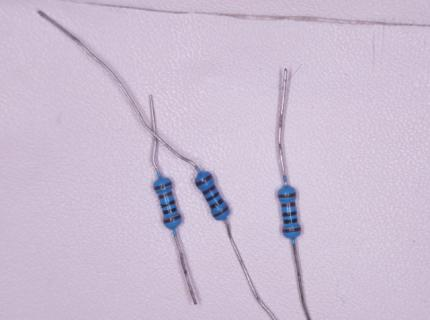Black band: (210, 198, 224, 209), (206, 191, 220, 202), (163, 206, 178, 215), (161, 200, 176, 208), (284, 217, 298, 224), (282, 211, 297, 216)
Brown band: (196, 174, 213, 187), (212, 205, 229, 217), (163, 215, 182, 224), (202, 184, 217, 195), (154, 182, 172, 190), (159, 191, 173, 200), (282, 227, 301, 233), (278, 192, 296, 198), (281, 202, 296, 207)
